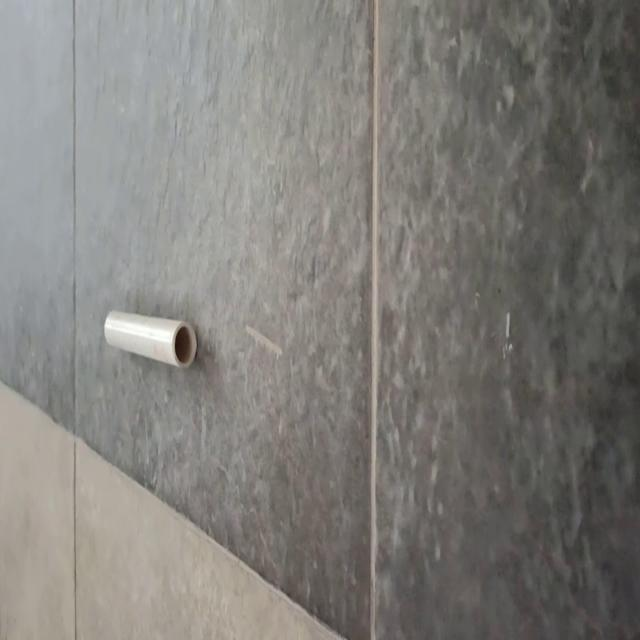Cube: (103, 307, 197, 369)
